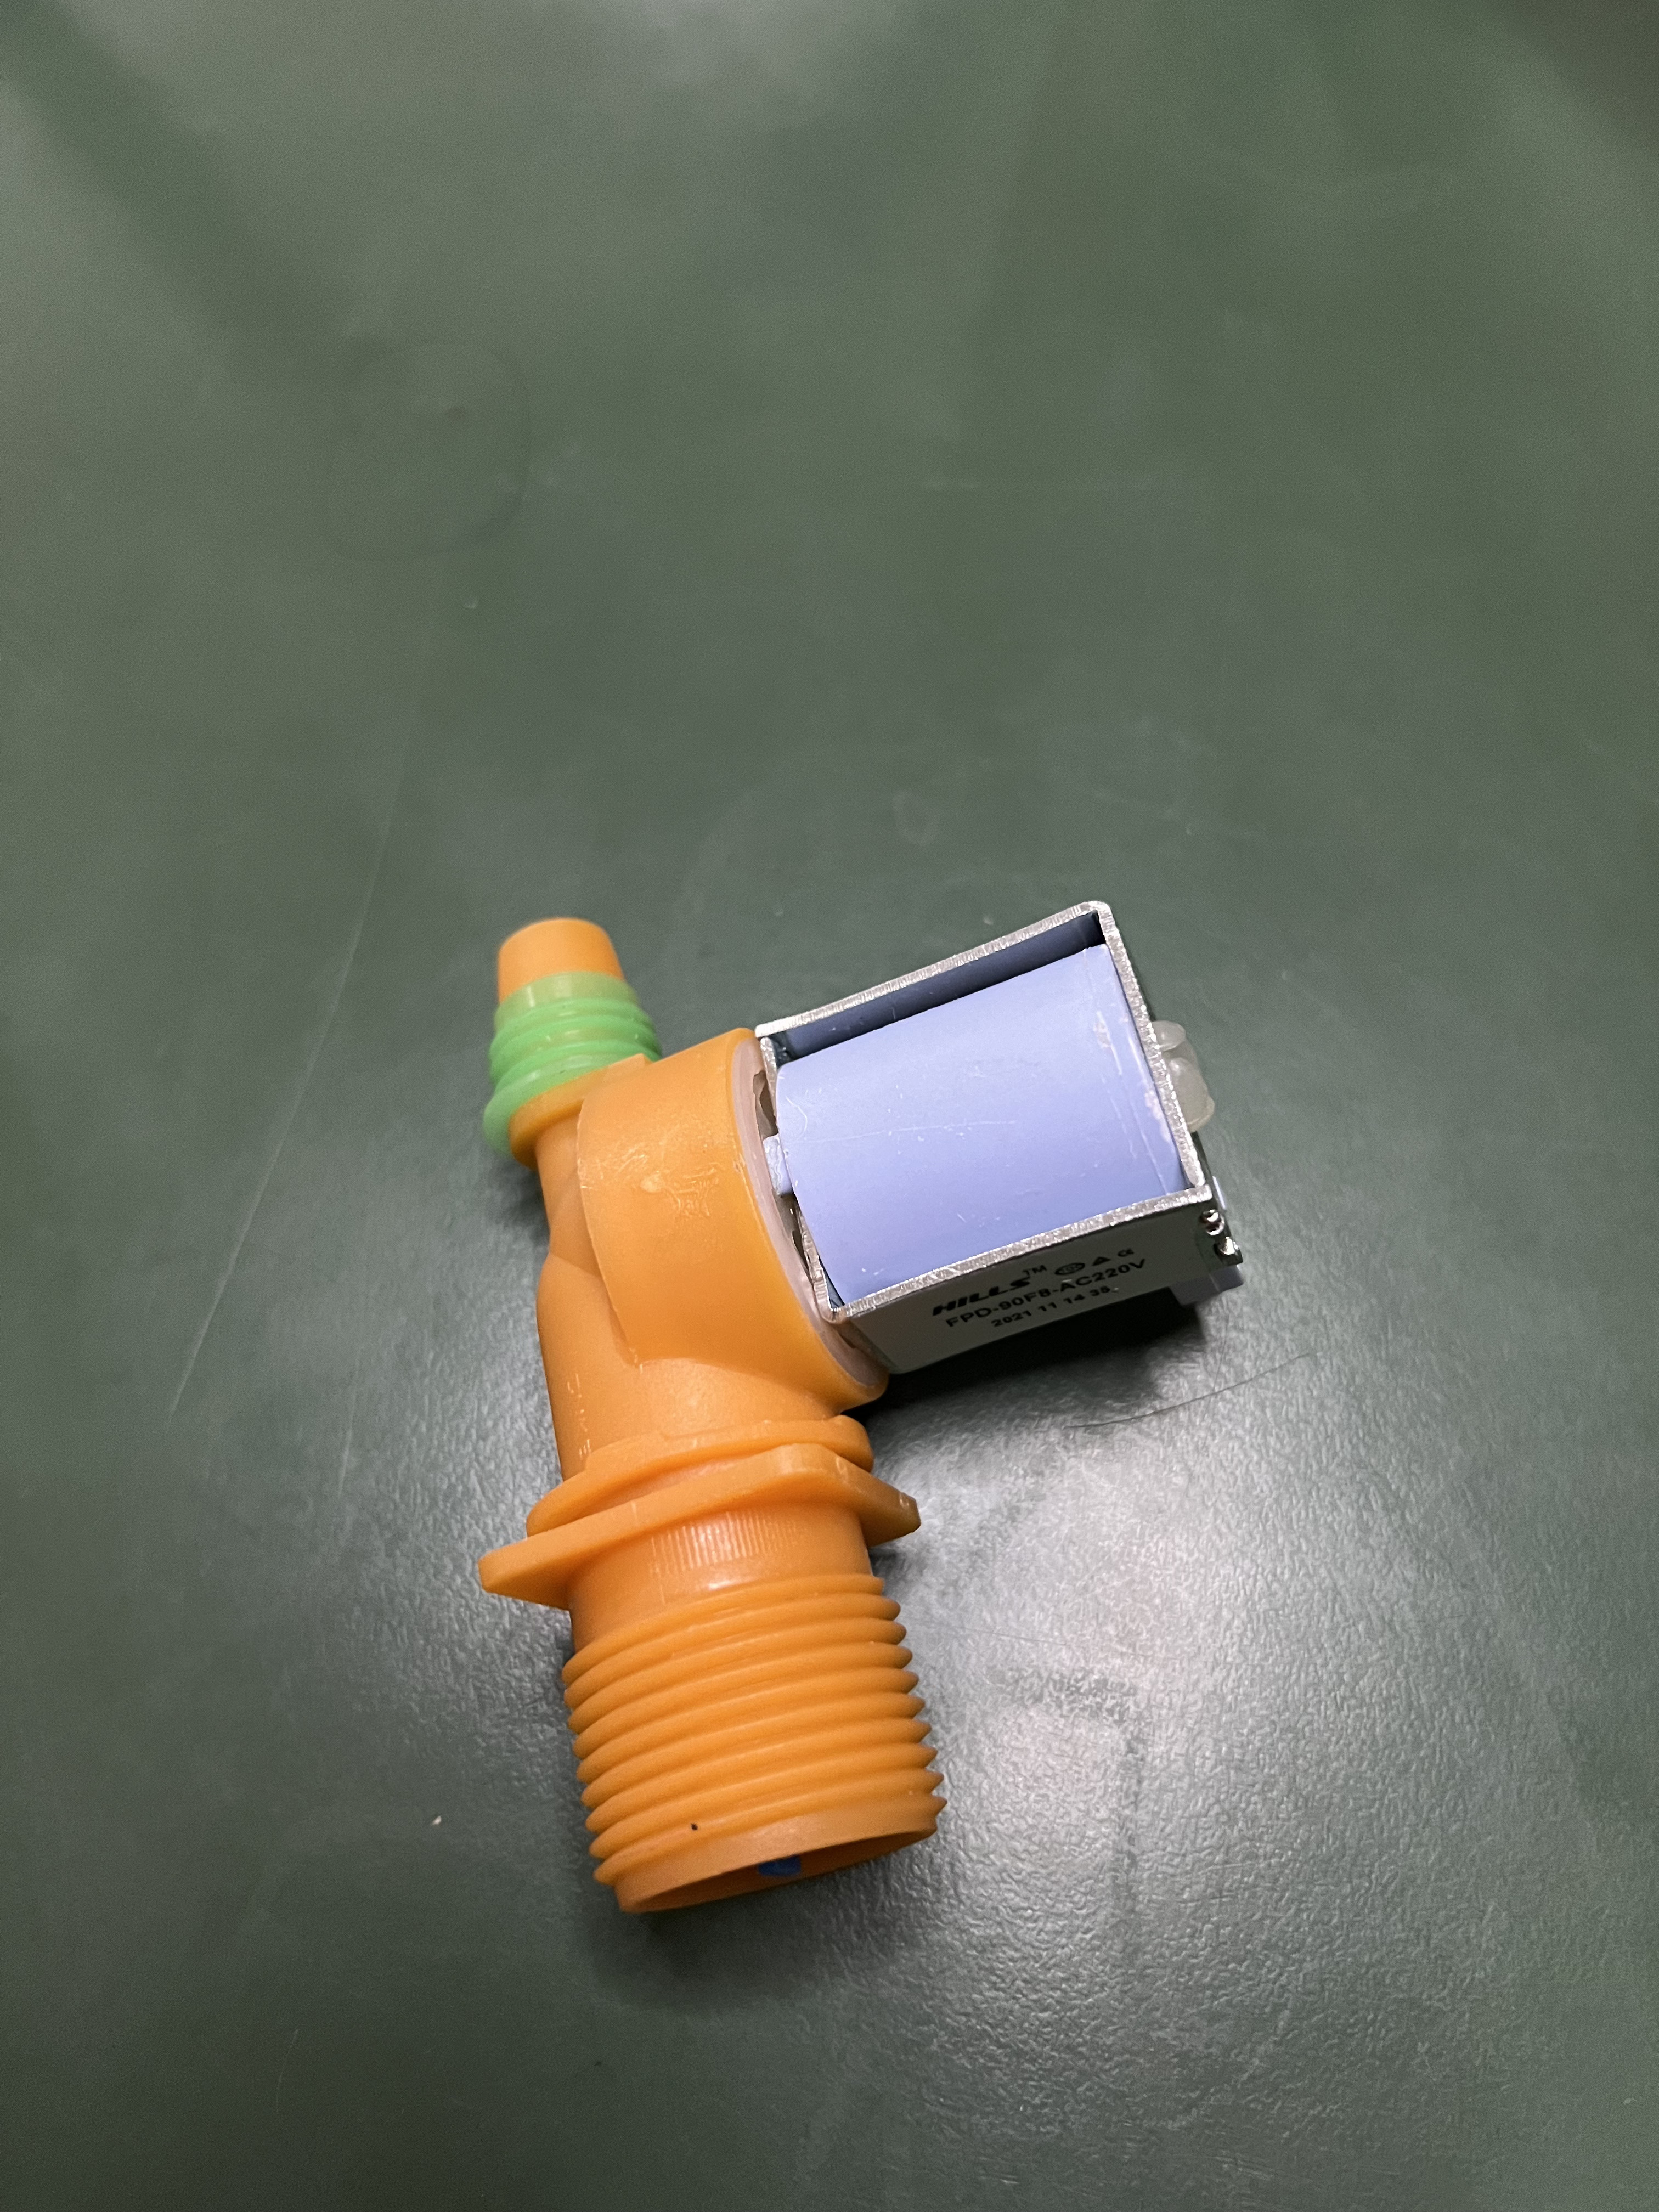ss_inlet_valves: (410, 768, 1298, 1916)
